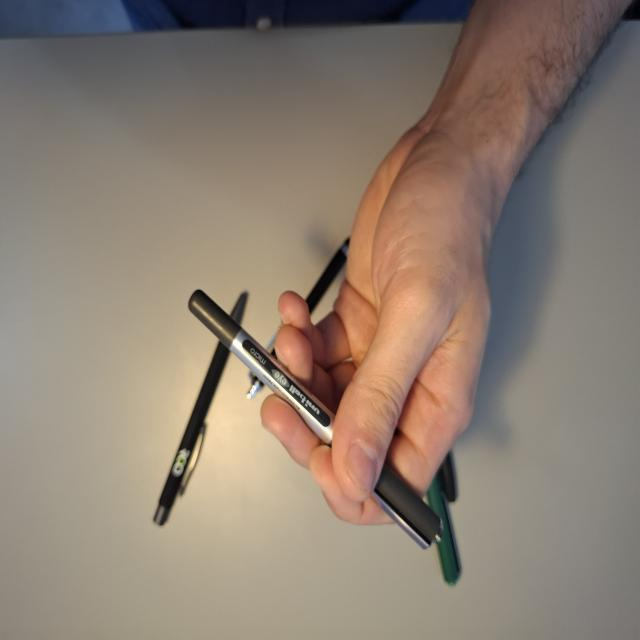glove_off: (259, 116, 510, 530)
